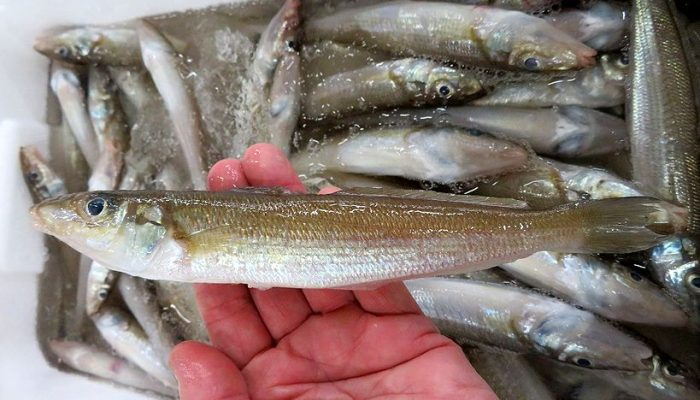kiss: (23, 179, 668, 296)
